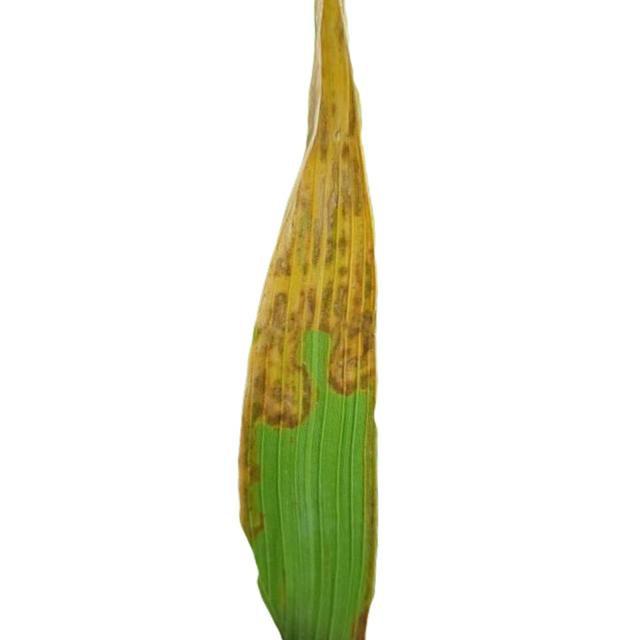Leaf scald: (202, 3, 498, 640)
